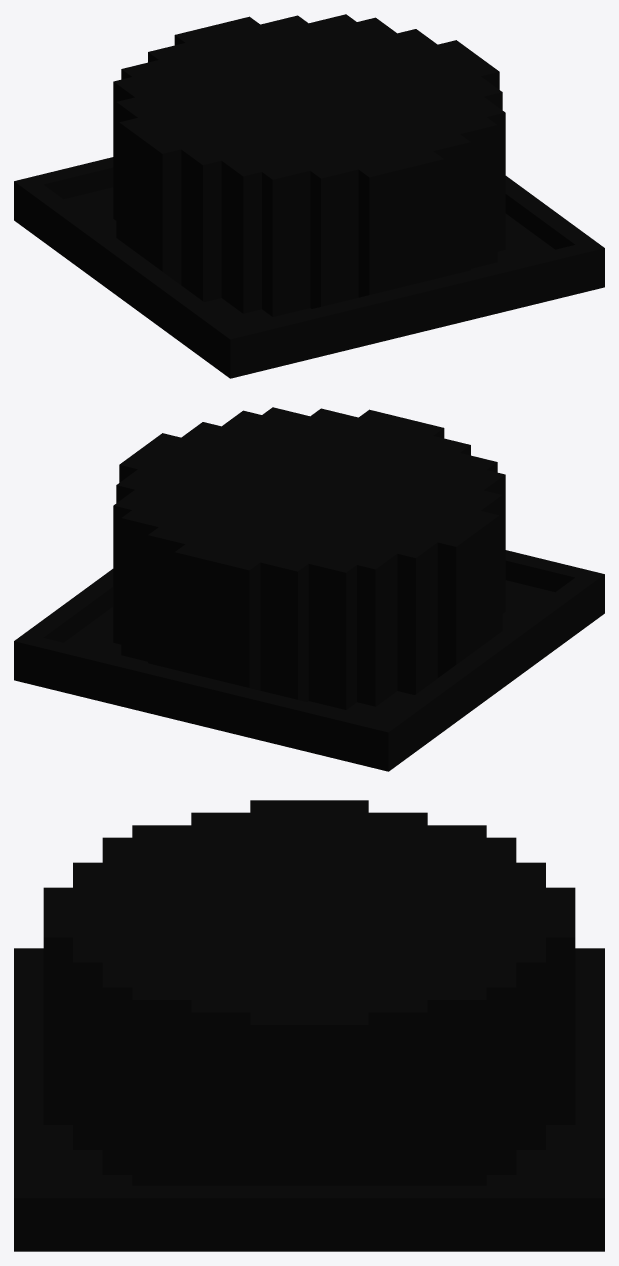
File: Cheese.obj
3 views of the same model, one above another, from view 1: azimuth 30°, elevation 25°; view 2: azimuth 150°, elevation 25°; view 3: azimuth 270°, elevation 25° (orthographic). The views are drawn at different scales.
Size of the model in its own units: 2 by 0.9 by 2.
